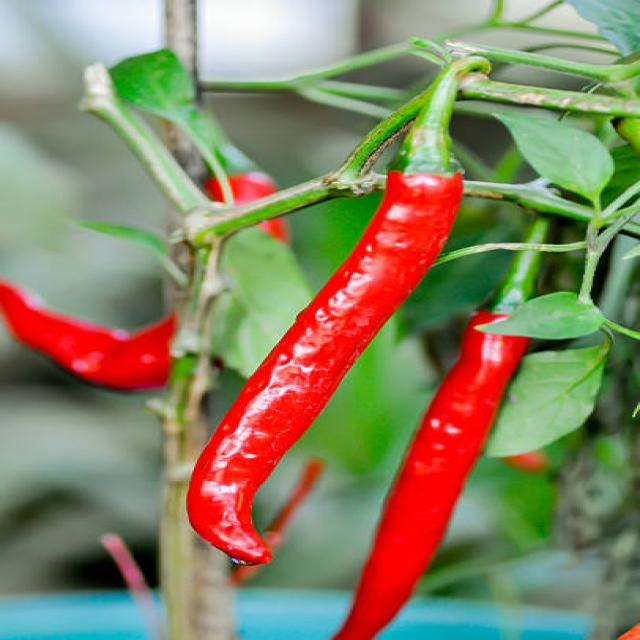Ripe: (184, 170, 467, 569), (333, 311, 528, 639)
